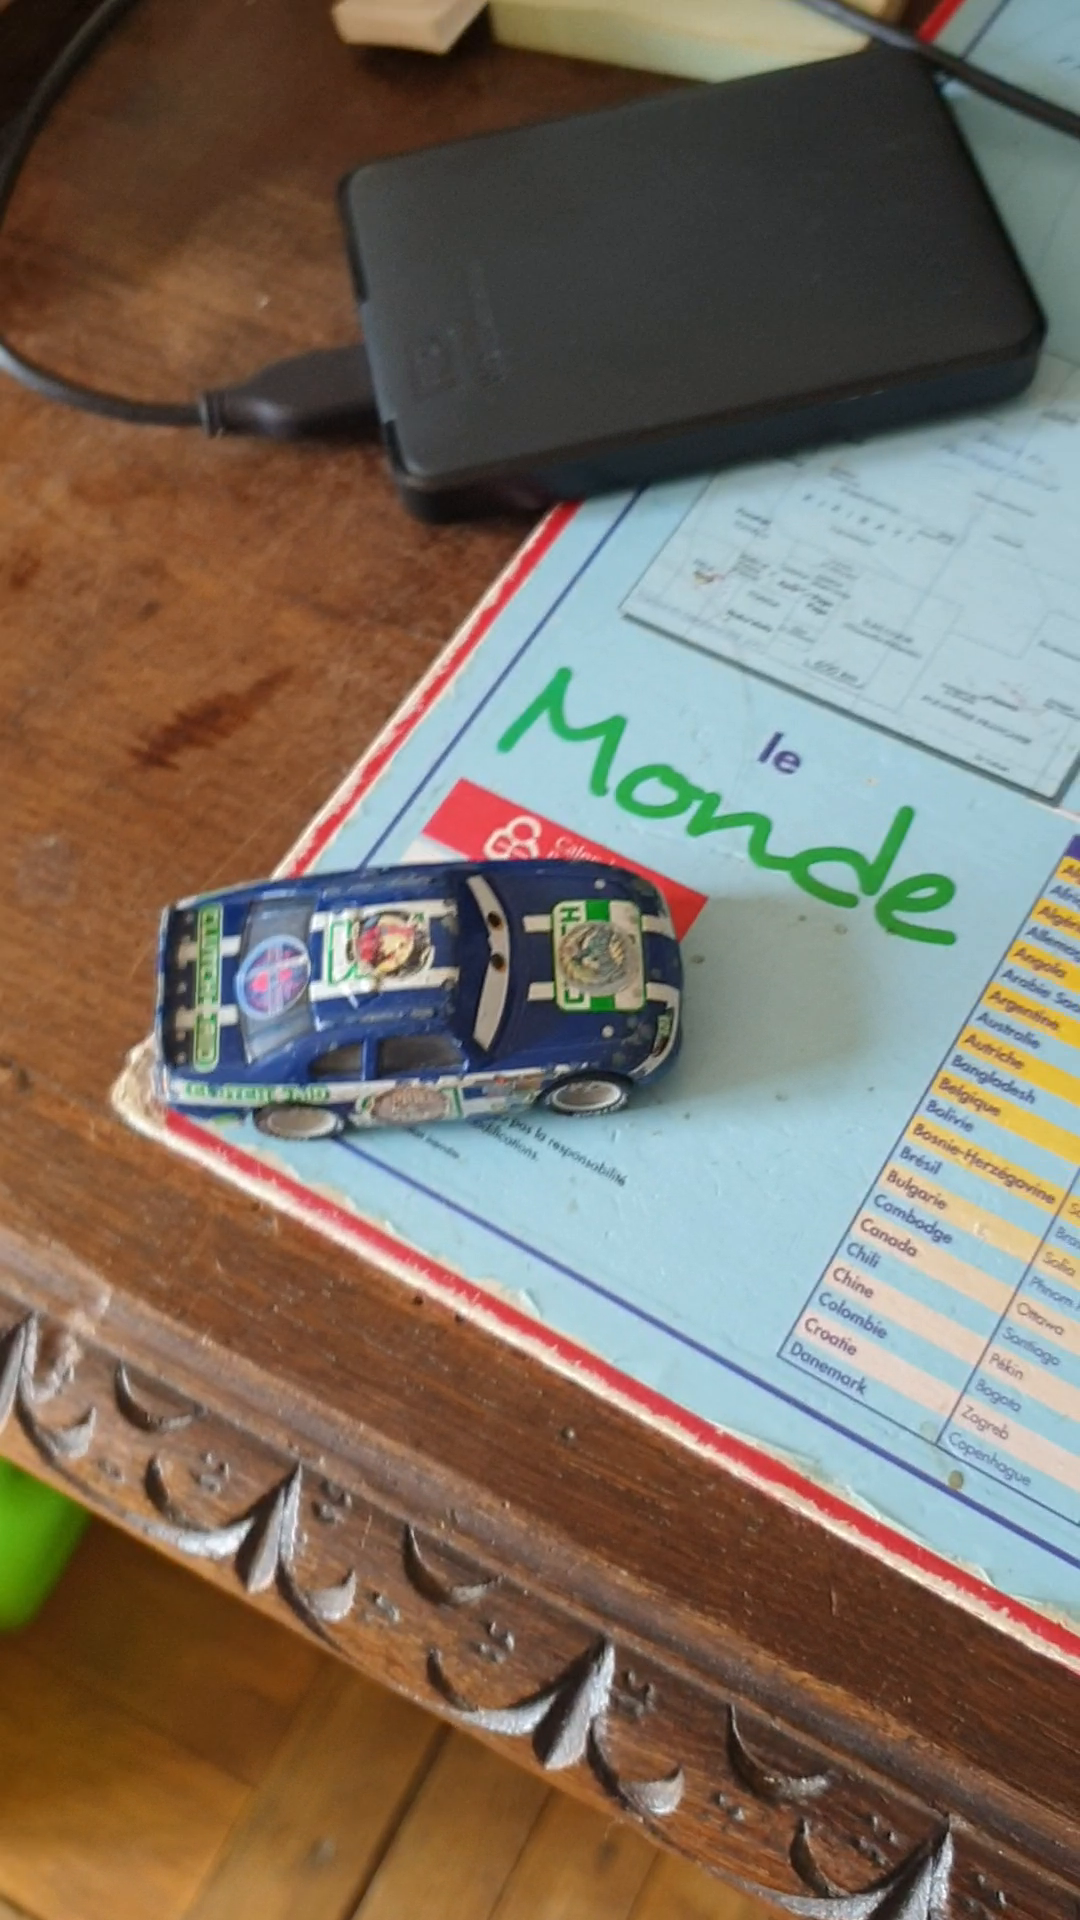cars: (150, 858, 684, 1145)
